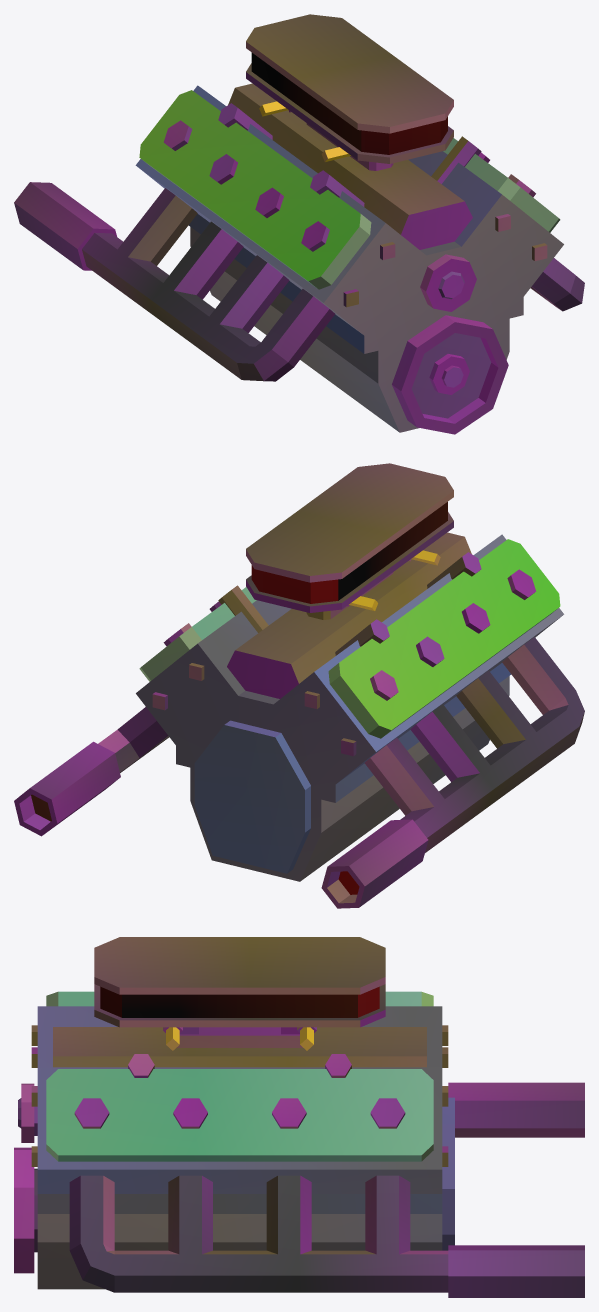
Rendered from EngineLvl2.fbx.
3 views of the same model, one above another, from view 1: azimuth 30°, elevation 25°; view 2: azimuth 150°, elevation 25°; view 3: azimuth 270°, elevation 25° (orthographic). The views are drawn at different scales.
Visible parts, largest first — view 1: engine_lvl2; view 2: engine_lvl2; view 3: engine_lvl2.
Boxes of the visible parts, x1,y1,x2,y2 form: engine_lvl2: (14, 14, 584, 434); engine_lvl2: (14, 463, 584, 908); engine_lvl2: (14, 937, 584, 1297).
Bounding box in the file's own units: 1.59 × 1.24 × 2.08.
